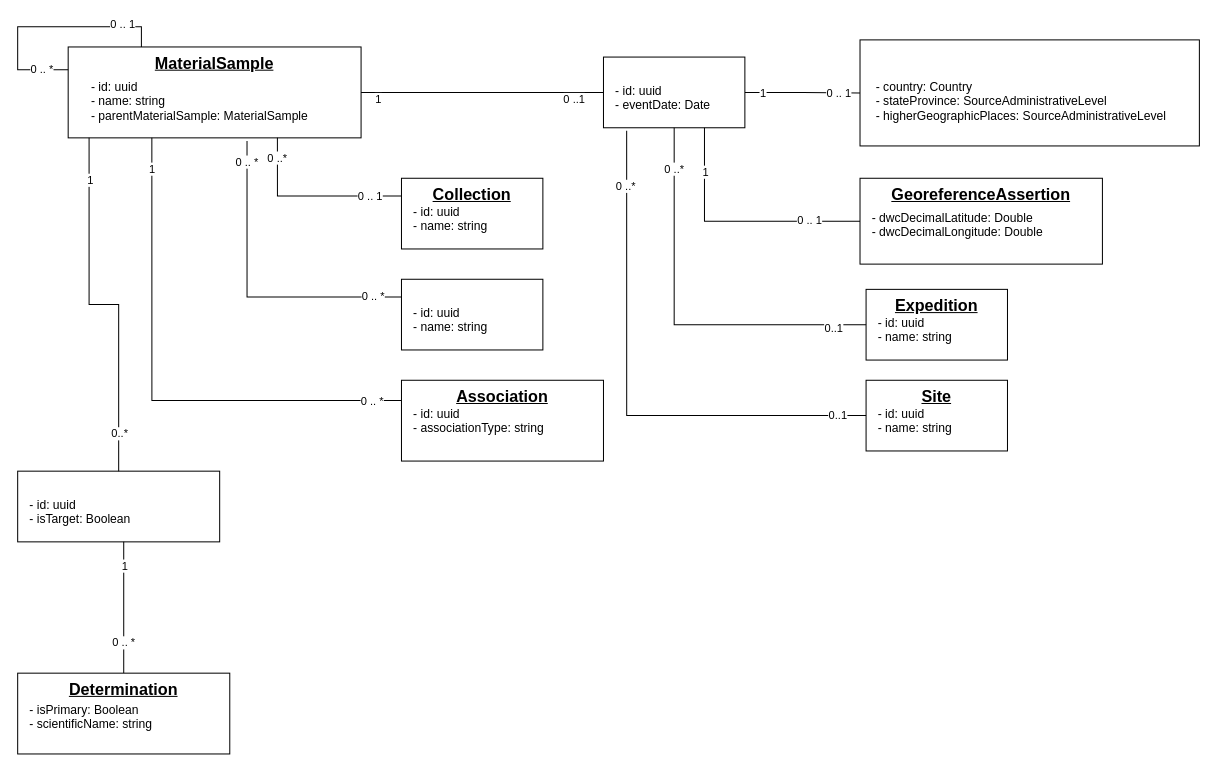
This 1217x772 diagram has some shape labels left out. Here are the shapes that lost their labels. From the top down, the box of each, then its label:
(602, 56, 745, 128): CollectingEvent
(859, 39, 1199, 146): GeographicPlaceNameSourceDetail
(400, 278, 543, 350): Project
(17, 470, 220, 542): Organism
